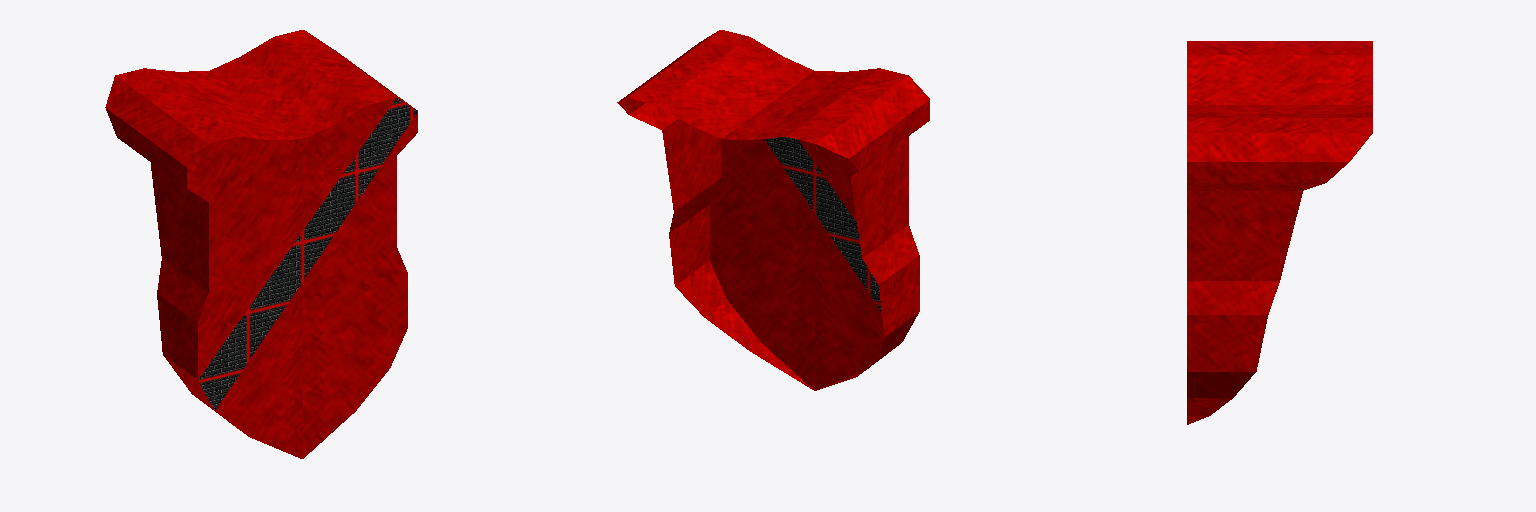
3 renders of one model, left to right at view 1: azimuth 30°, elevation 25°; view 2: azimuth 150°, elevation 25°; view 3: azimuth 270°, elevation 25°, orthographic.
Parts seen in each view (by area): view 1: star-SKP--Metal_Rough, star-SKP--Metal_Aluminum_Anodized; view 2: star-SKP--Metal_Rough, star-SKP--Metal_Aluminum_Anodized; view 3: star-SKP--Metal_Rough.
Part boxes in pixels (bbox=[...]): star-SKP--Metal_Rough: bbox=[105, 30, 417, 458]; star-SKP--Metal_Aluminum_Anodized: bbox=[198, 98, 417, 410]; star-SKP--Metal_Rough: bbox=[617, 30, 929, 390]; star-SKP--Metal_Aluminum_Anodized: bbox=[765, 137, 881, 311]; star-SKP--Metal_Rough: bbox=[1187, 41, 1372, 424].
Bounding box in the file's own units: 42.49 × 59.46 × 29.73.
2 materials, 2 textured.